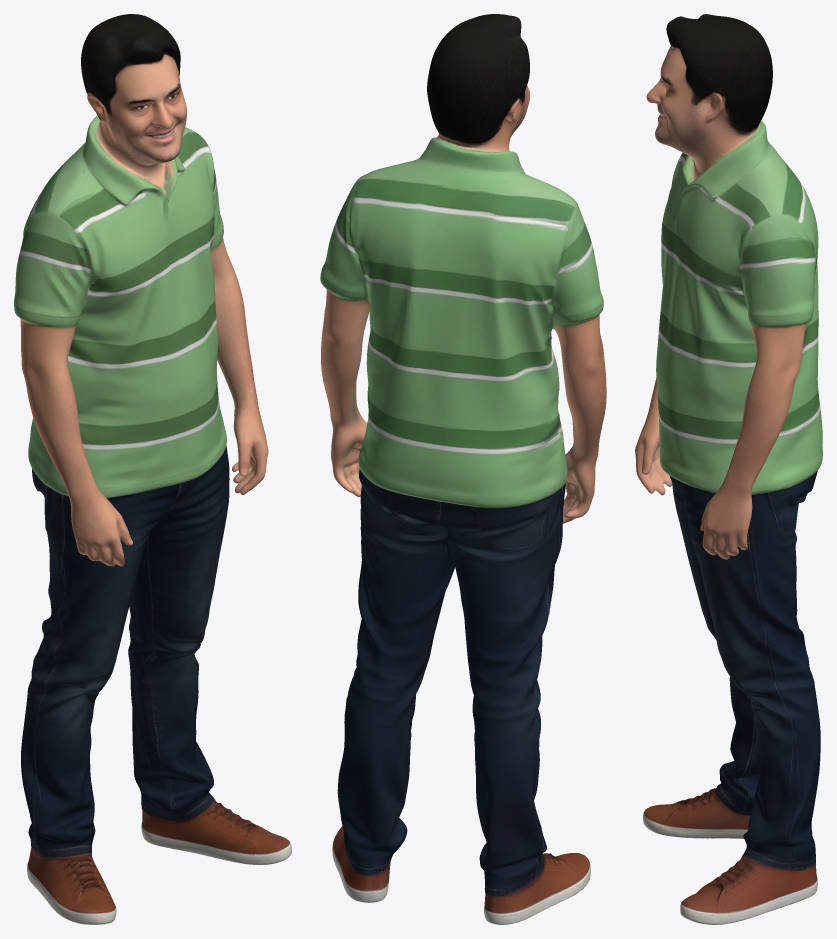
Rendered from casual-portrait-of-a-man-in-a-green-striped-polo-d2056ca7.glb.
The picture shows the model from 3 angles, left to right: view 1: azimuth 30°, elevation 25°; view 2: azimuth 150°, elevation 25°; view 3: azimuth 270°, elevation 25°; orthographic projection. The views are drawn at different scales.
Parts seen in each view (by area): view 1: mesh_0; view 2: mesh_0; view 3: mesh_0.
Part boxes in pixels (x1,y1,x2,y2): mesh_0: (14,14,291,924); mesh_0: (320,14,606,924); mesh_0: (635,14,822,924).
Size of the model in its own units: 0.6105 by 1.9 by 0.3865.
Materials: 1 (1 with a texture image).
